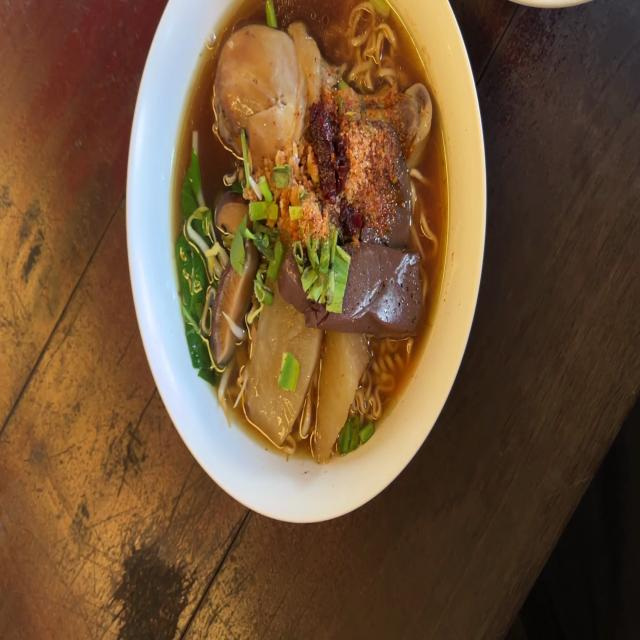noodle: (344, 250, 425, 334)
